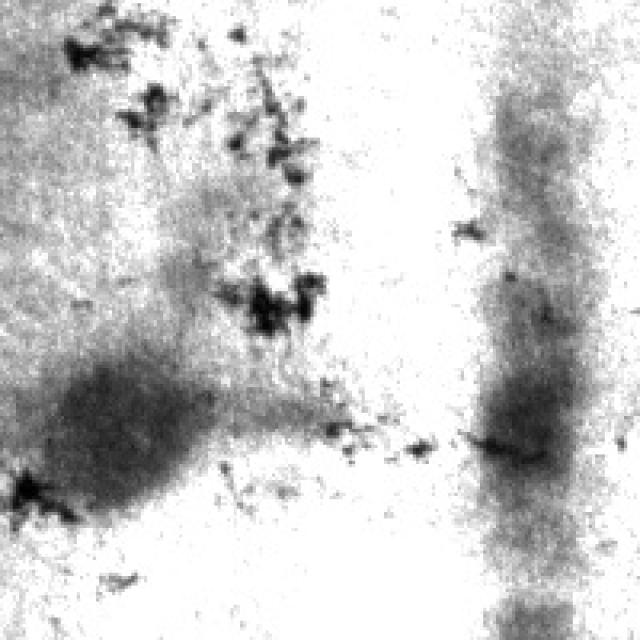patches: (468, 250, 598, 531), (45, 339, 234, 509)
